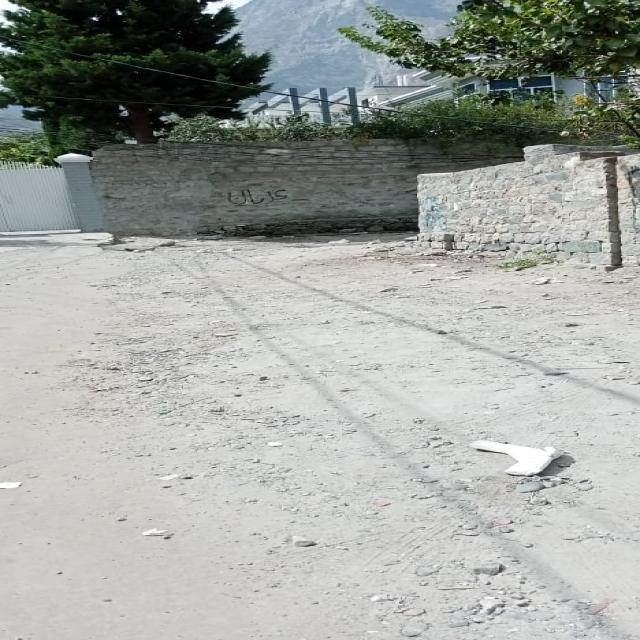Right-Turn: (104, 219, 391, 398)
